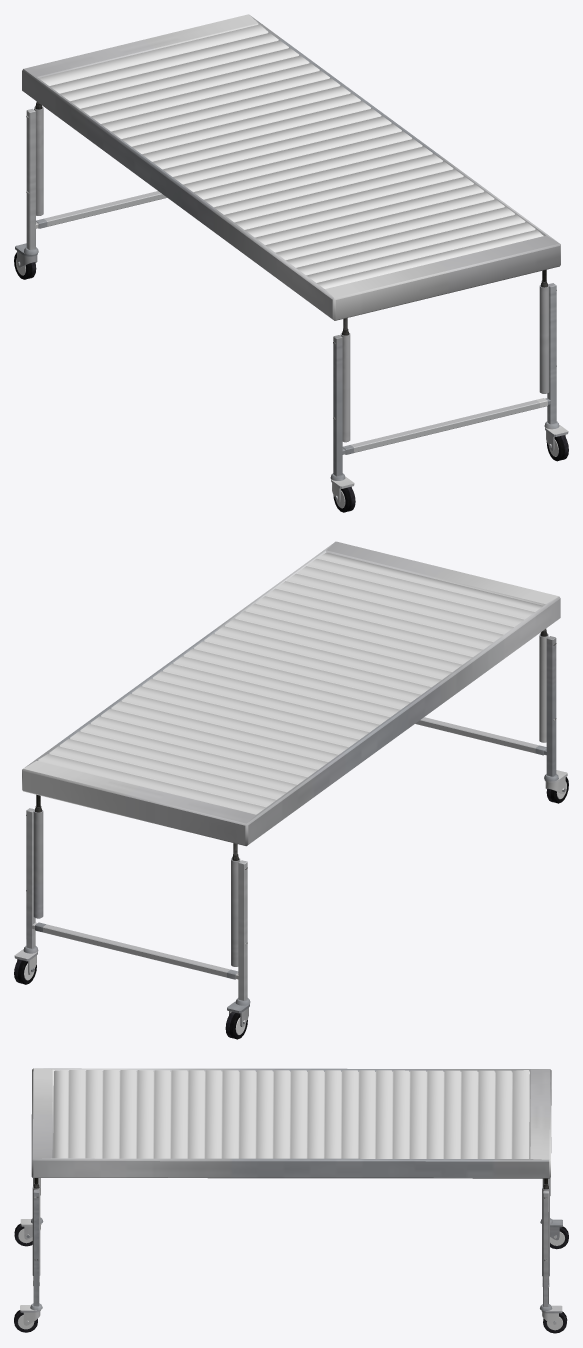
The model's file is vax_med_table.fbx.
3 views of the same model, one above another, from view 1: azimuth 30°, elevation 25°; view 2: azimuth 150°, elevation 25°; view 3: azimuth 270°, elevation 25° (orthographic). The views are drawn at different scales.
Parts seen in each view (by area): view 1: aluminum operating table; view 2: aluminum operating table; view 3: aluminum operating table.
Part boxes in pixels (bbox=[...]): aluminum operating table: bbox=[14, 14, 568, 512]; aluminum operating table: bbox=[14, 541, 568, 1039]; aluminum operating table: bbox=[14, 1068, 568, 1333].
Size of the model in its own units: 91.1 by 80.57 by 230.
